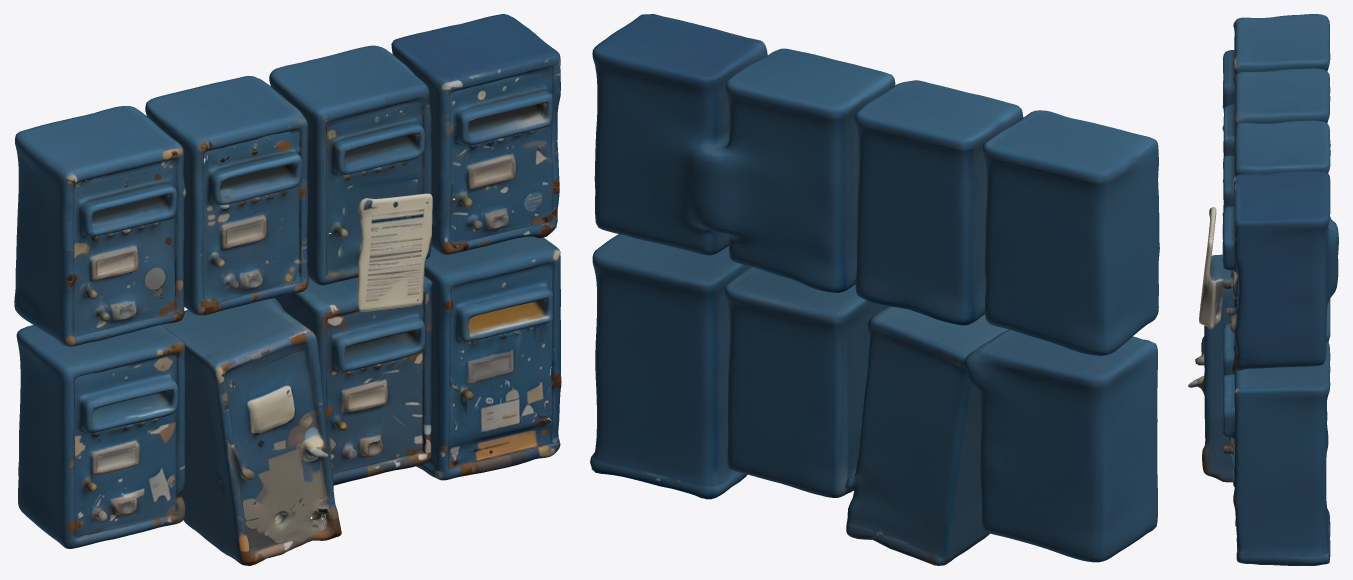
Rendered from g67_mailboxes.glb.
The picture shows the model from 3 angles, left to right: view 1: azimuth 30°, elevation 25°; view 2: azimuth 150°, elevation 25°; view 3: azimuth 270°, elevation 25°; orthographic projection. The views are drawn at different scales.
Visible parts, largest first — view 1: tripo_node_d6ada9c9; view 2: tripo_node_d6ada9c9; view 3: tripo_node_d6ada9c9.
Part boxes in pixels (box(x1,y1,x2,y2)): tripo_node_d6ada9c9: box(14, 14, 561, 565); tripo_node_d6ada9c9: box(590, 14, 1159, 565); tripo_node_d6ada9c9: box(1188, 14, 1338, 565).
Bounding box in the file's own units: 97.89 × 79.05 × 29.73.
Materials: 1 (1 with a texture image).
